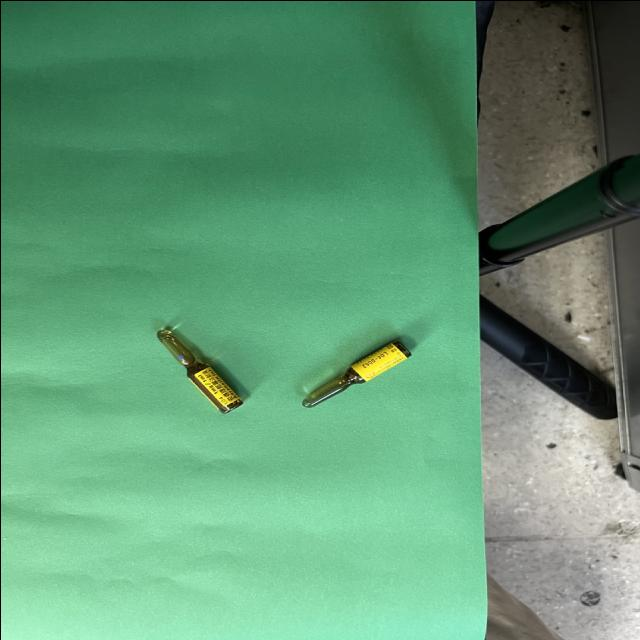Ampoules: (302, 340, 411, 406), (157, 330, 241, 412)
